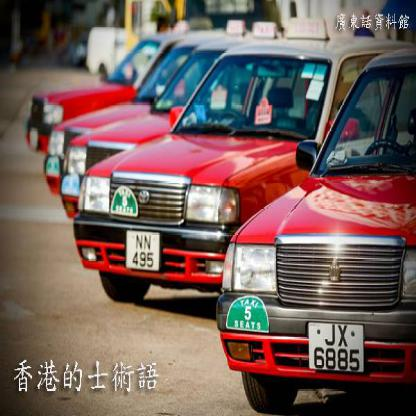taxi: (213, 45, 416, 416)
